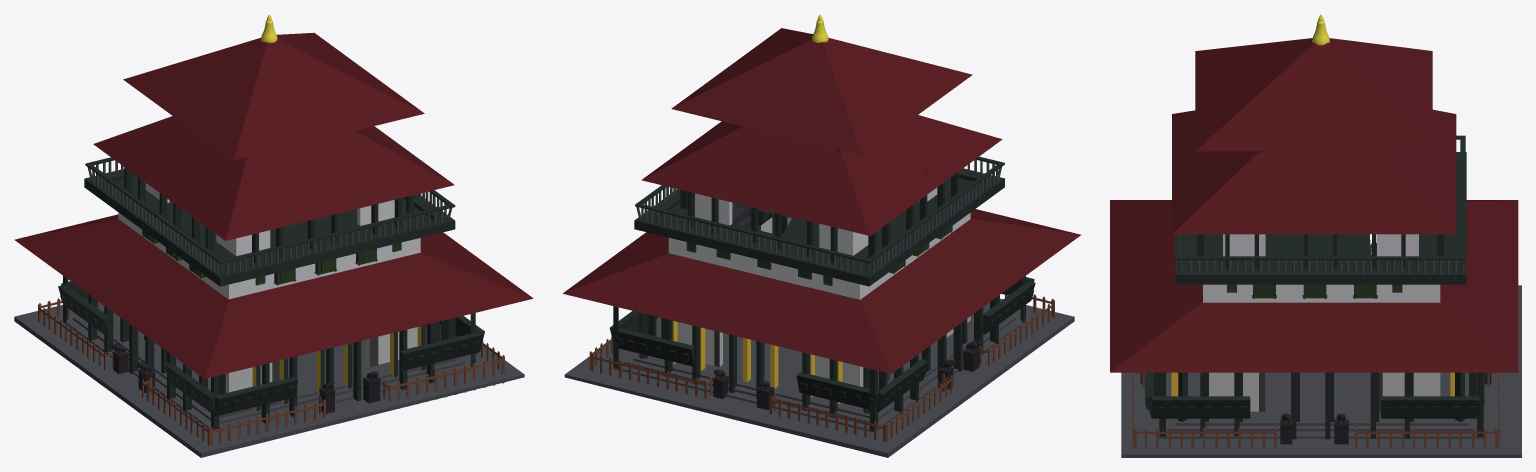
The model's file is kastamandav.fbx.
3 renders of one model, left to right at view 1: azimuth 30°, elevation 25°; view 2: azimuth 150°, elevation 25°; view 3: azimuth 270°, elevation 25°, orthographic. The views are drawn at different scales.
Parts seen in each view (by area): view 1: kasthamandap; view 2: kasthamandap; view 3: kasthamandap.
Boxes of the visible parts, bbox=[...] form: kasthamandap: bbox=[14, 14, 533, 457]; kasthamandap: bbox=[563, 14, 1080, 457]; kasthamandap: bbox=[1110, 14, 1521, 457].
Bounding box in the file's own units: 27074 × 26899 × 27323.
